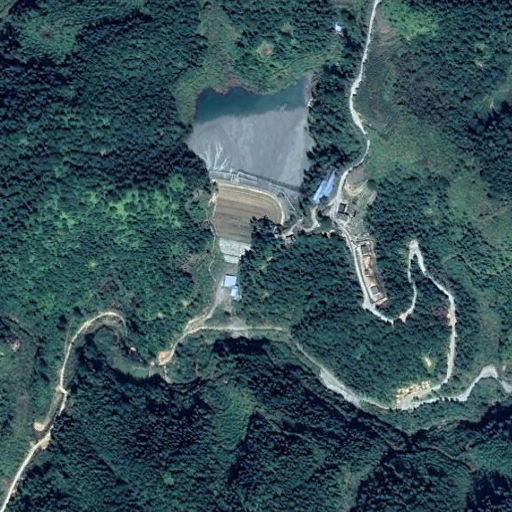tp: (184, 71, 318, 266)
